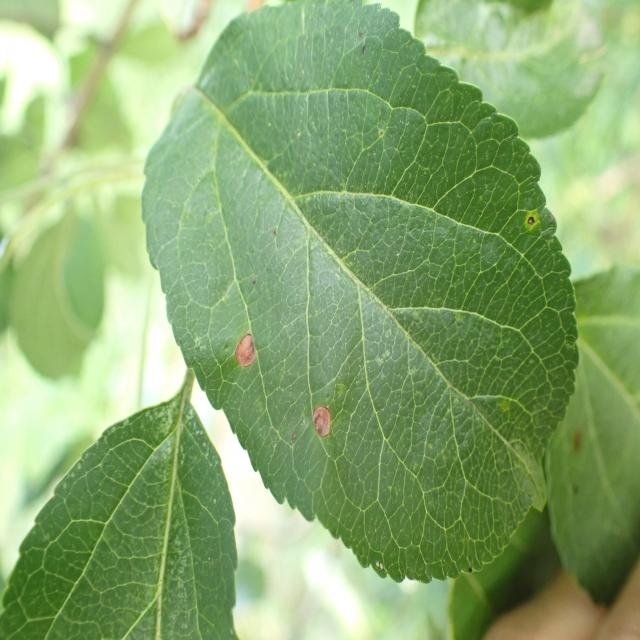frog-eye-leaf-spot: (140, 1, 580, 588)
